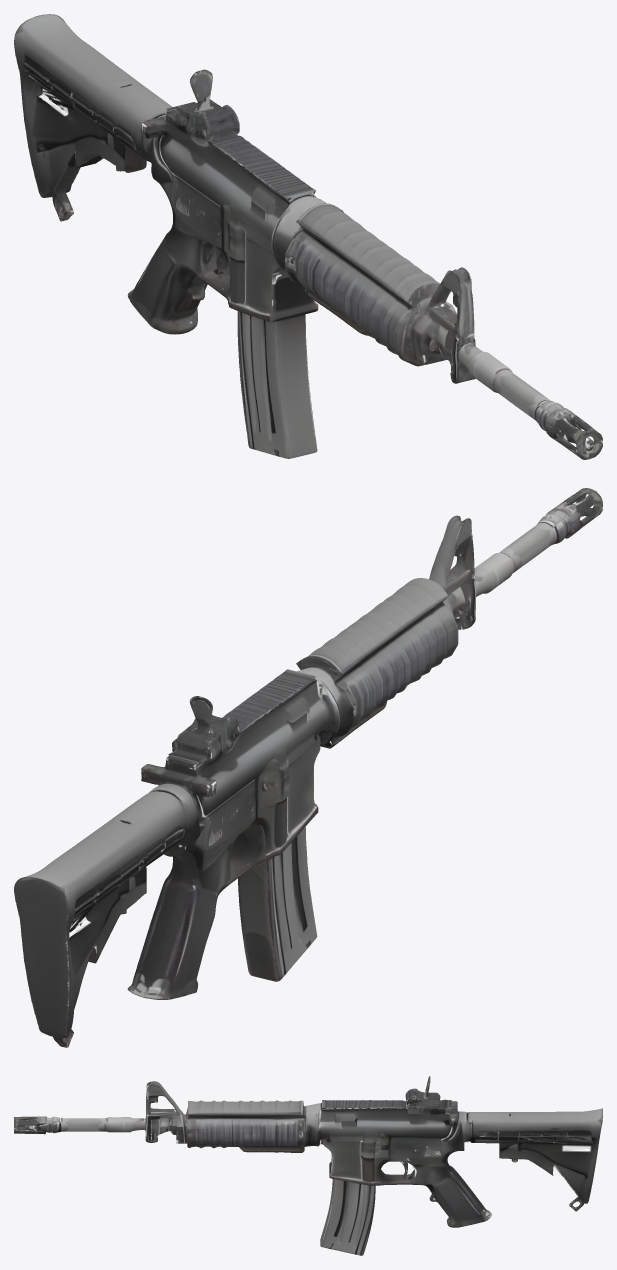
The model's file is base_basic_shaded.glb.
3 renders of one model, top to bottom at view 1: azimuth 30°, elevation 25°; view 2: azimuth 150°, elevation 25°; view 3: azimuth 270°, elevation 25°, orthographic. The views are drawn at different scales.
Visible parts, largest first — view 1: model; view 2: model; view 3: model.
Part boxes in pixels (<box>): model: <box>14,14,602,459</box>; model: <box>14,488,602,1047</box>; model: <box>14,1076,602,1255</box>.
Bounding box in the file's own units: 0.1411 × 0.6239 × 1.9.
Materials: 1 (1 with a texture image).
